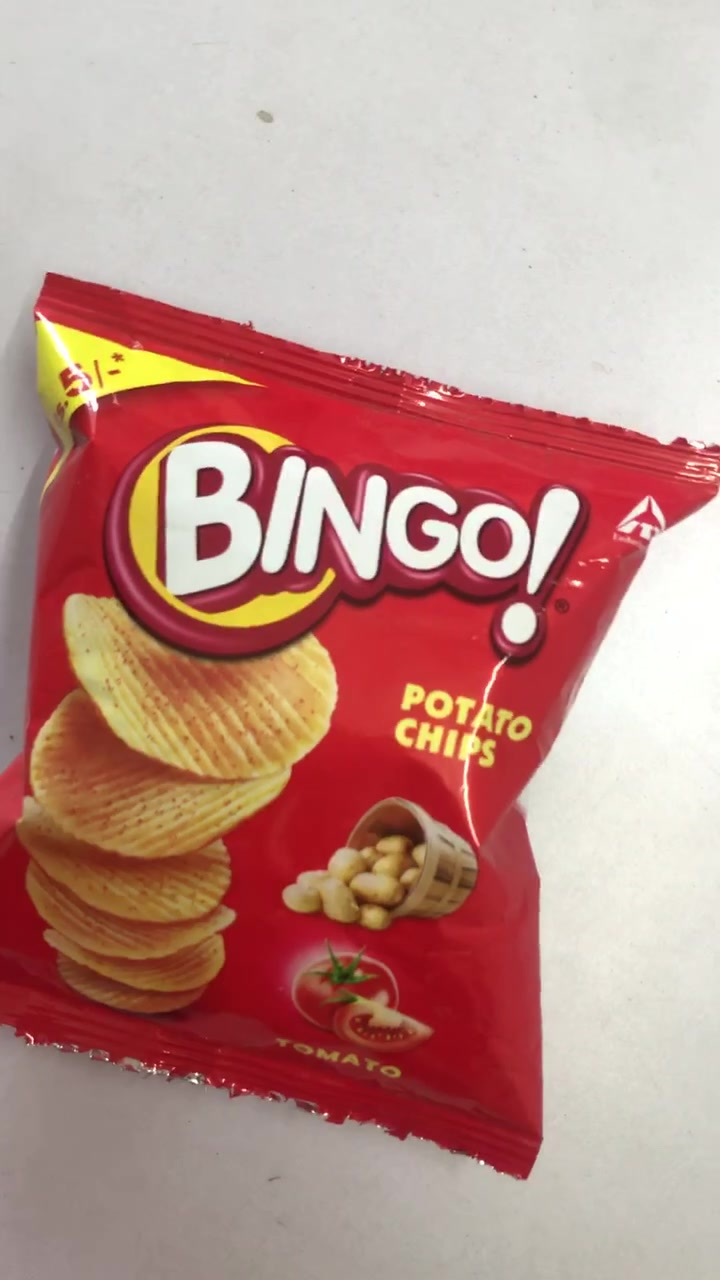Bingo: (5, 280, 720, 1174)
